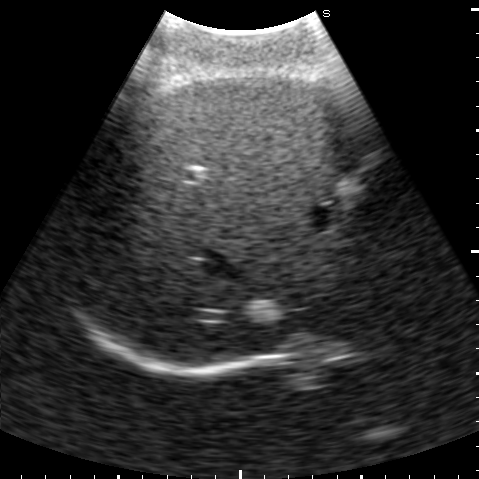S5: (133, 74, 360, 190)
S7: (63, 157, 179, 314)
S8: (123, 165, 402, 365)
Tumor: (246, 299, 283, 324), (337, 177, 366, 202)
